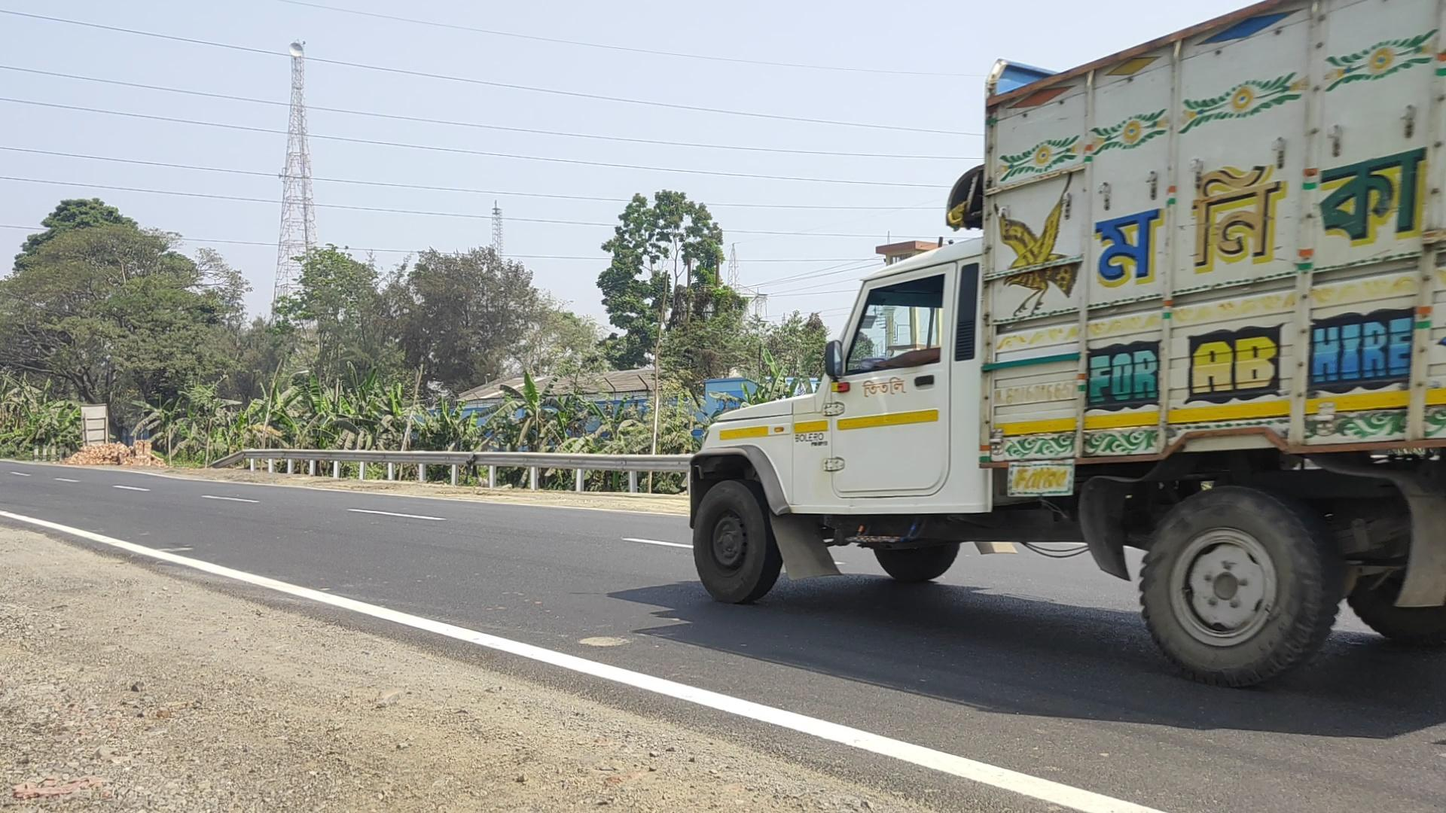van: (689, 1, 1446, 690)
